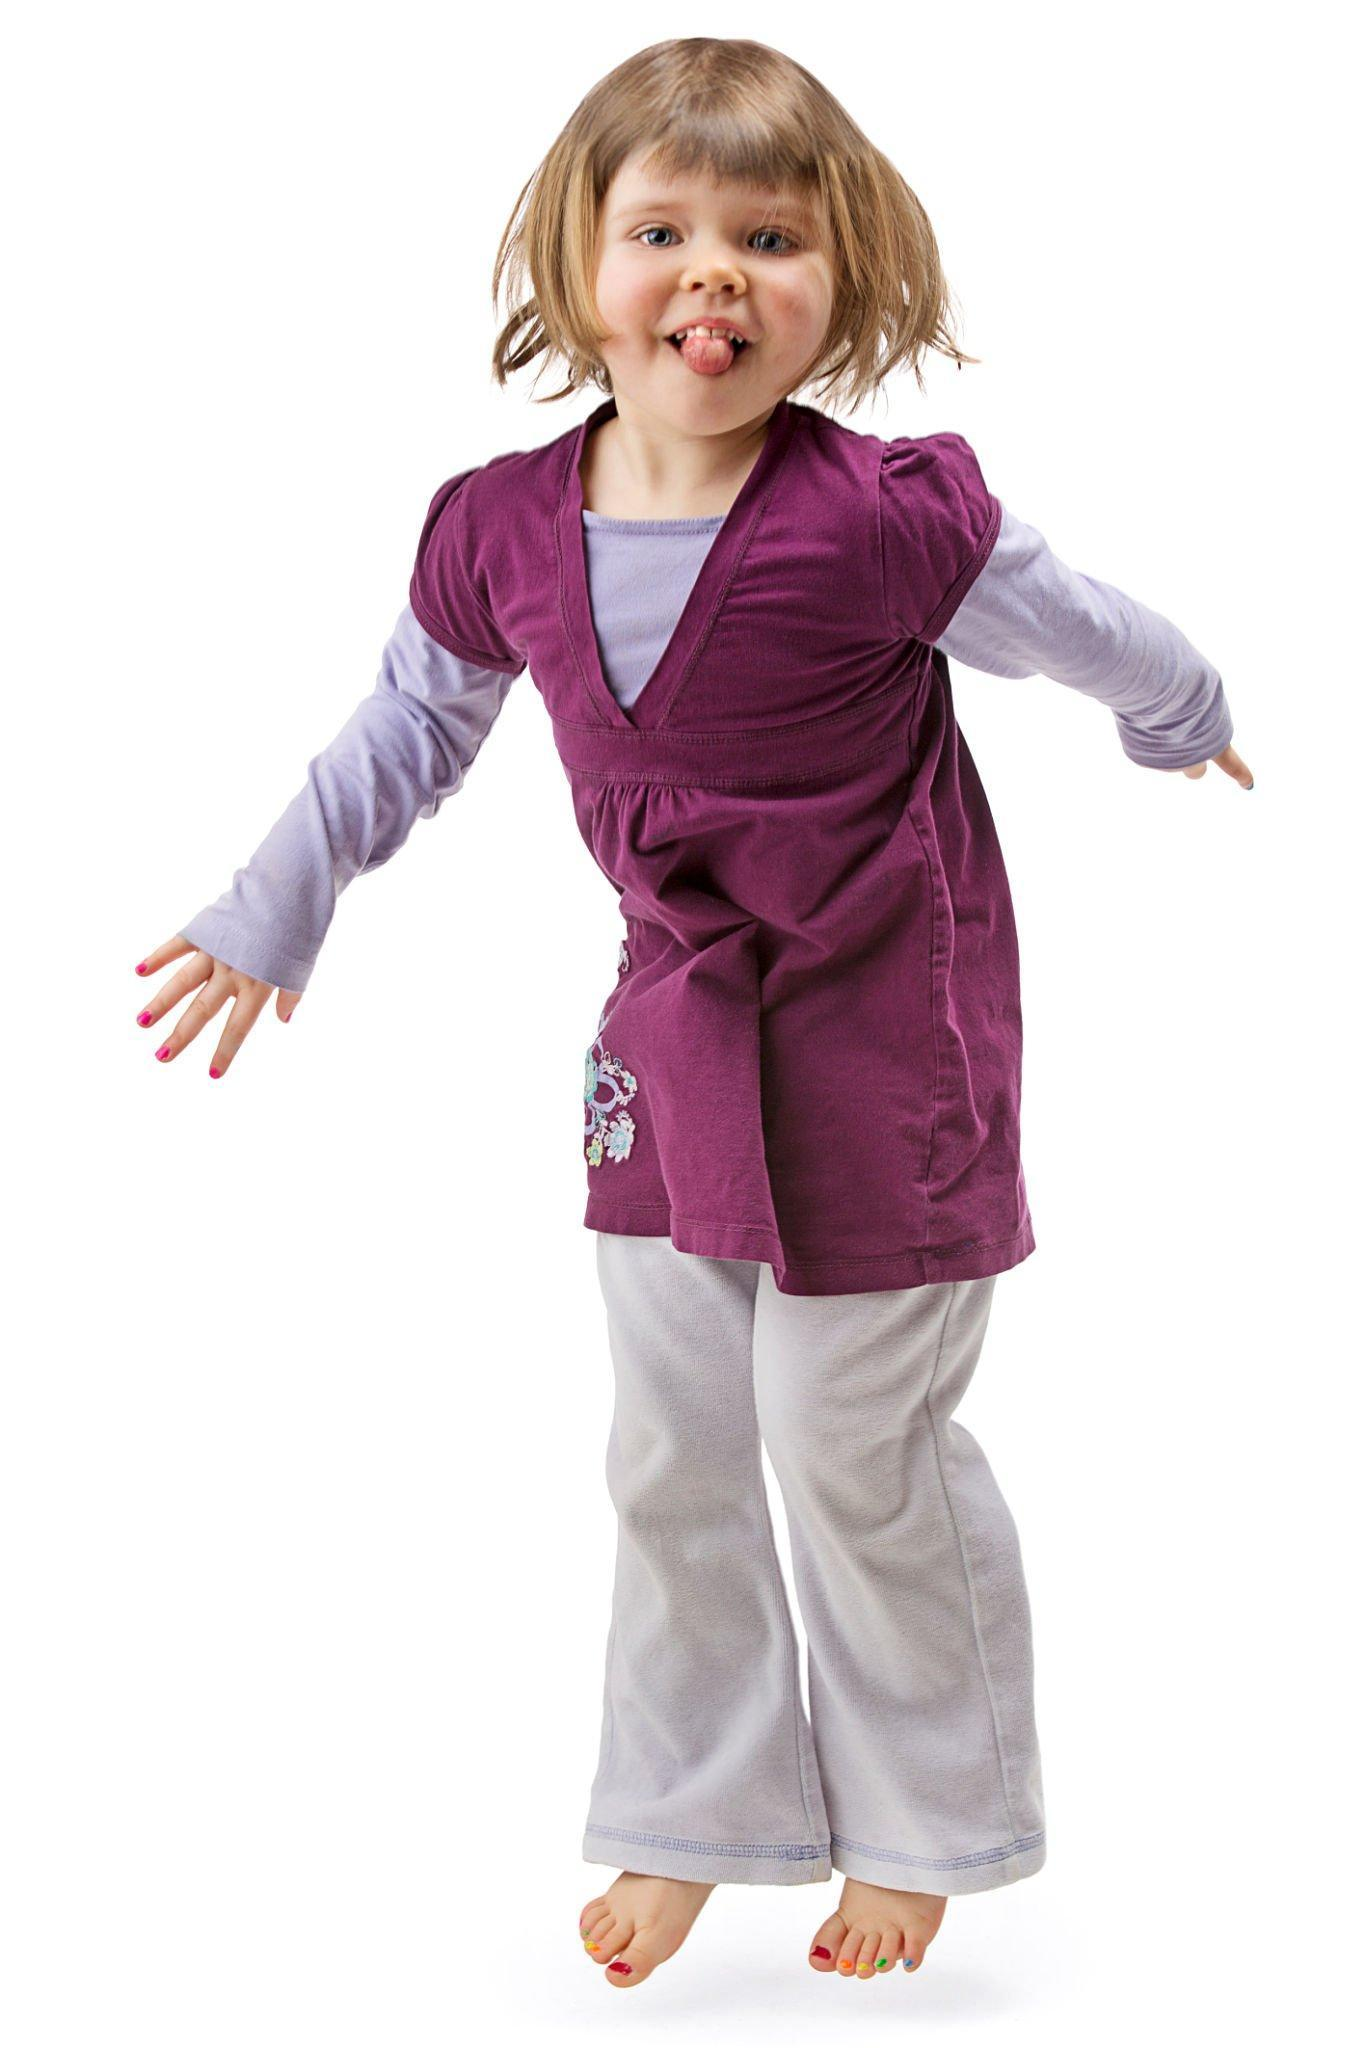Healthy: (551, 61, 868, 466)
